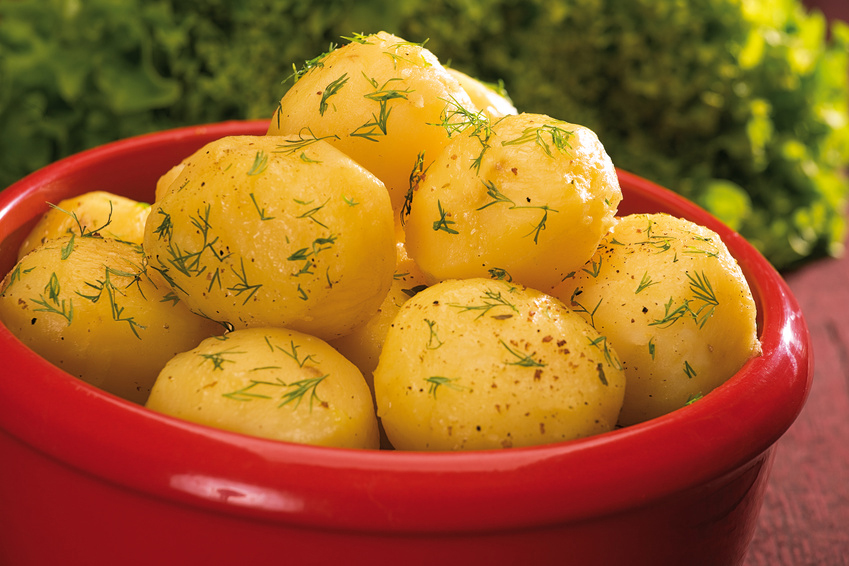boiled potatoes: (148, 137, 401, 326), (382, 287, 616, 445), (575, 199, 746, 385), (418, 116, 607, 279), (272, 32, 457, 185), (150, 326, 374, 445), (6, 243, 200, 372)
